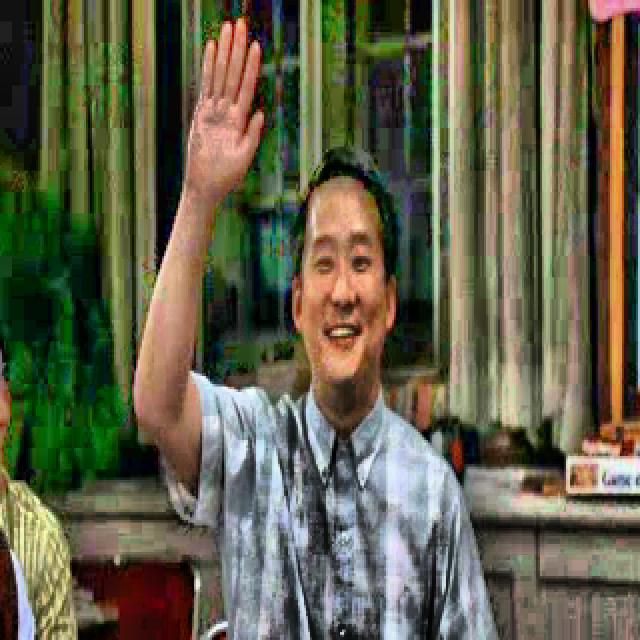T: (110, 9, 528, 640)
